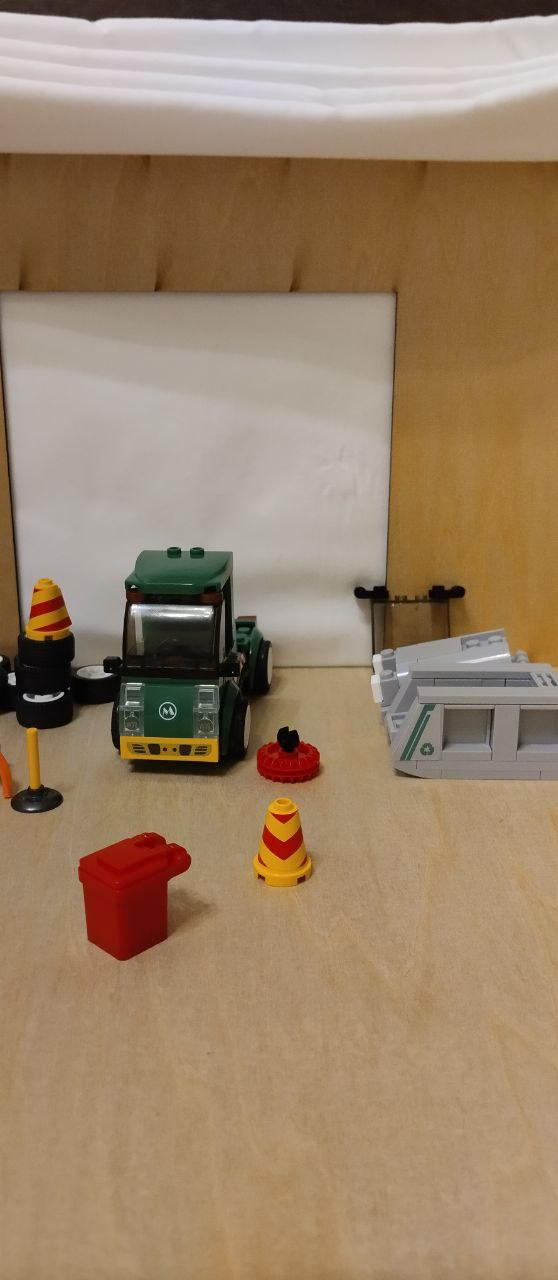Cone: (247, 802, 310, 890), (17, 575, 75, 650)
Object Red: (72, 824, 204, 960)
Truck: (104, 536, 279, 781)
